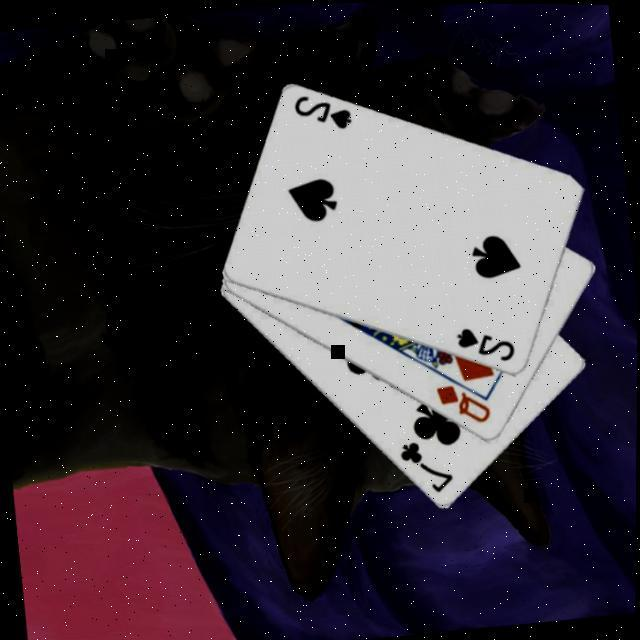2S: (452, 321, 518, 370), (289, 89, 355, 138)
7C: (394, 436, 458, 502)
QD: (431, 378, 494, 432)
